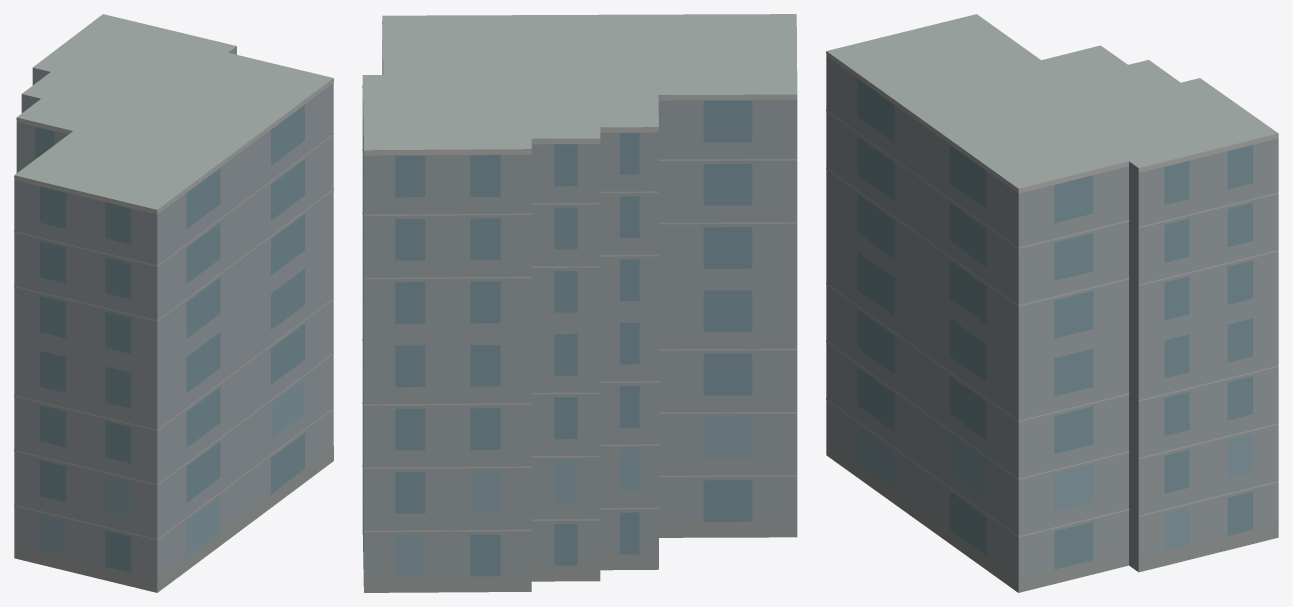
File: survey-upis-32988640.glb
3 renders of one model, left to right at view 1: azimuth 30°, elevation 25°; view 2: azimuth 150°, elevation 25°; view 3: azimuth 270°, elevation 25°, orthographic. The views are drawn at different scales.
Visible parts, largest first — view 1: survey-upis-32988640.tmp; view 2: survey-upis-32988640.tmp; view 3: survey-upis-32988640.tmp.
Boxes of the visible parts, box(x1,y1,x2,y2) form: survey-upis-32988640.tmp: box(14, 14, 333, 592); survey-upis-32988640.tmp: box(362, 14, 797, 592); survey-upis-32988640.tmp: box(826, 14, 1278, 592).
Size of the model in its own units: 18.52 by 19.95 by 20.26.
